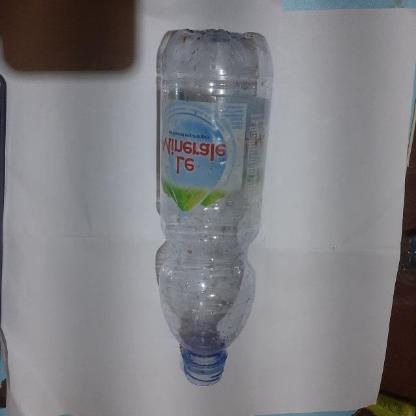Plastic Bottle: (154, 30, 270, 388)
